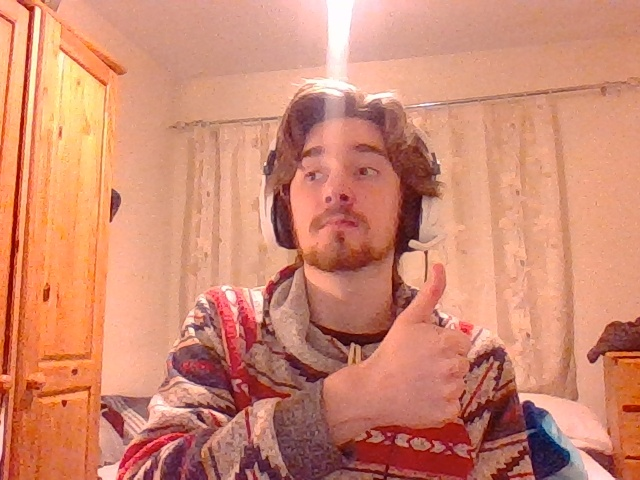good: (368, 263, 470, 423)
